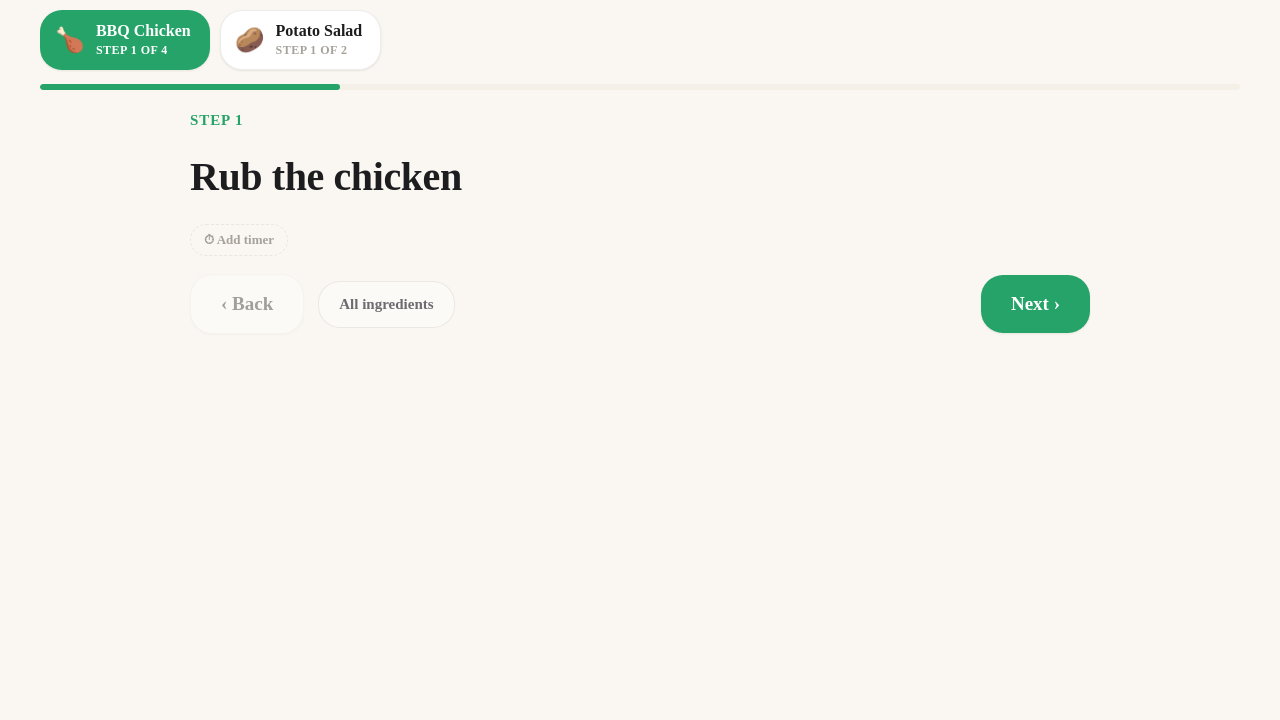
Test: CookMode — a docked timer takes you back to its dish › jumps to the right dish AND step from the alarm, and clears the alarm
Check: the text "Rub the chicken" is shown, box [190, 151, 462, 202]
Step 1. Click the button "Next ›" → (1035, 304), box [981, 275, 1090, 333]
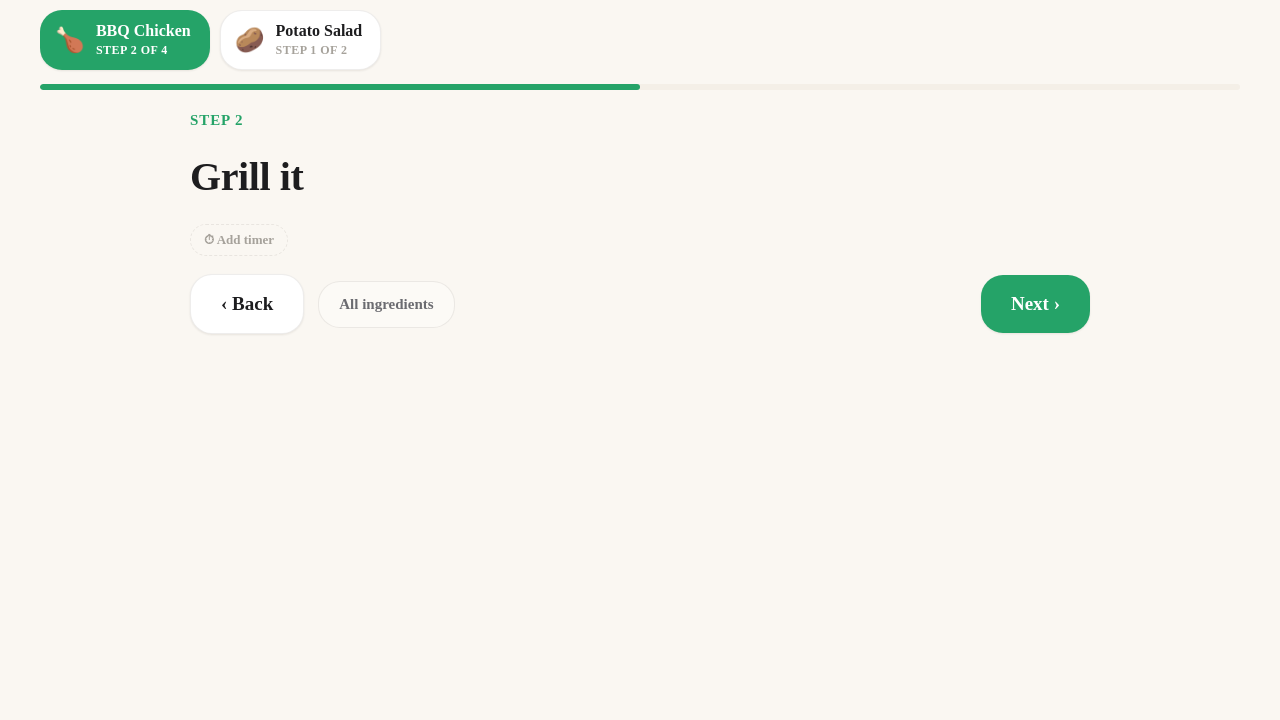
Check: the text "Grill it" is shown, box [190, 151, 304, 202]
Step 2. Click the button "⏱ Add timer" → (239, 240), box [190, 224, 288, 256]
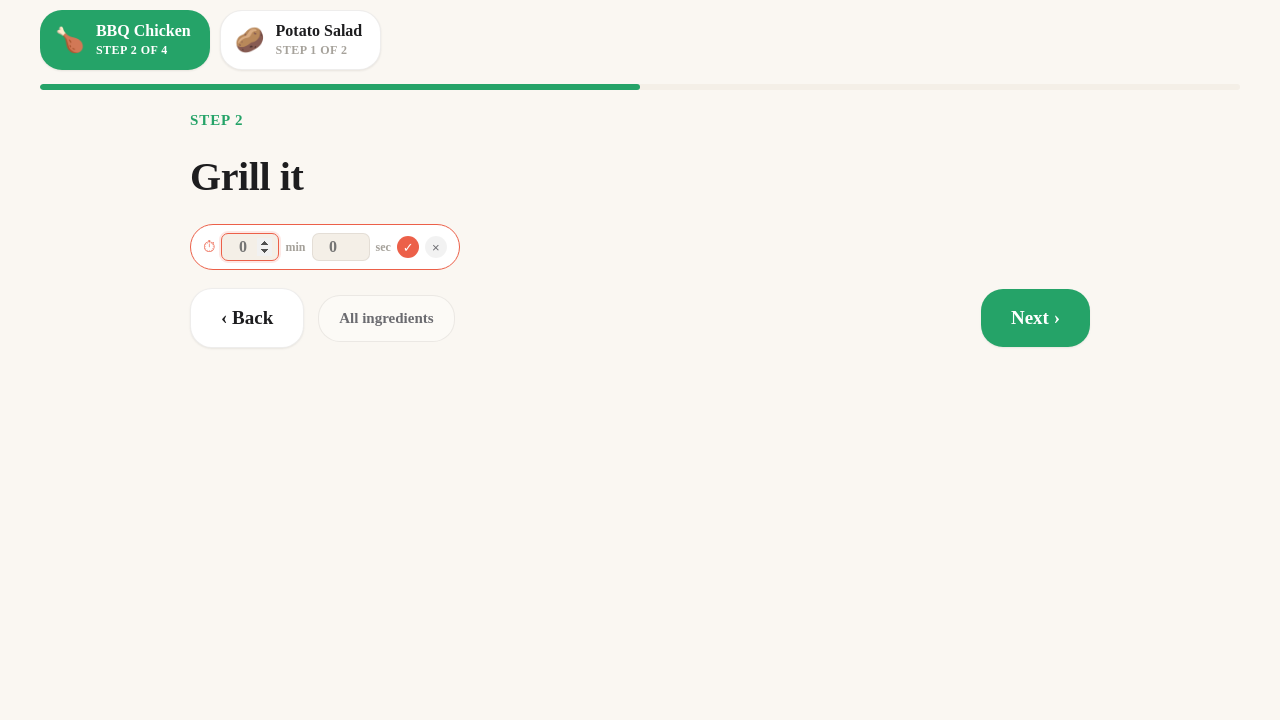
Step 3. Type "1" into the number field named "minutes" → (250, 247), box [222, 233, 280, 261]
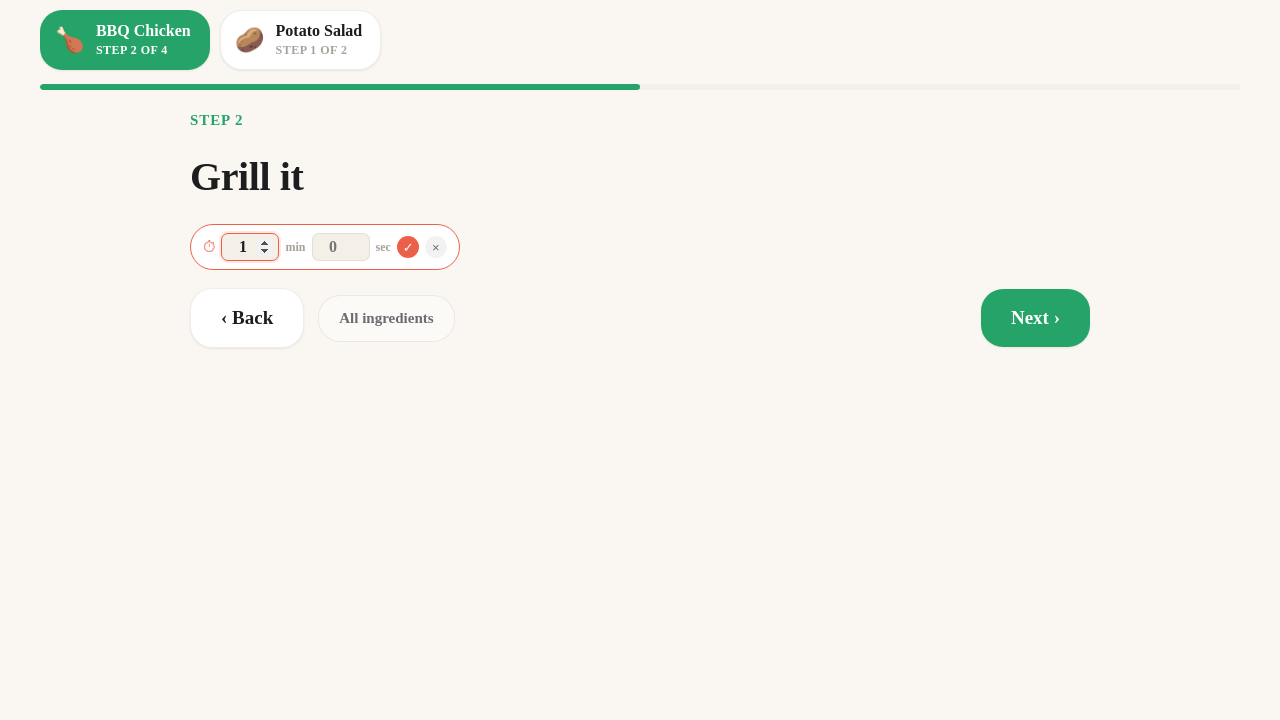
Step 4. Click the button named "start timer" → (408, 247), box [397, 236, 419, 258]
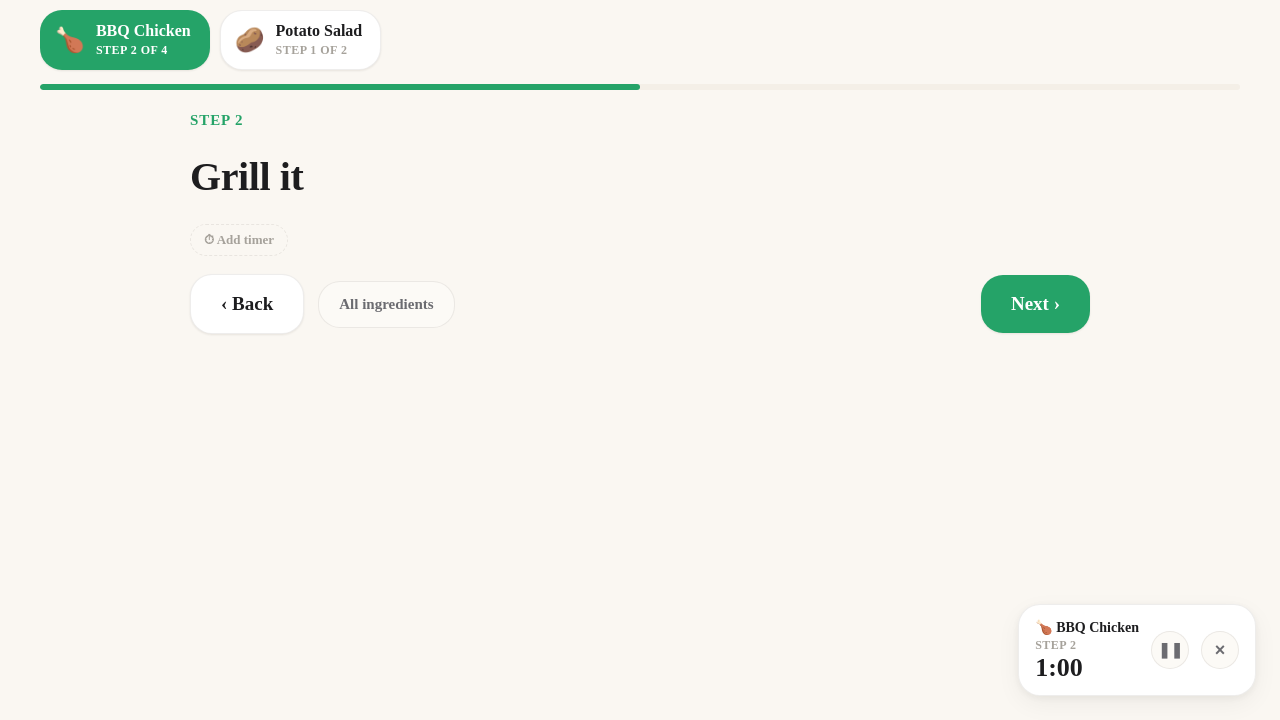
Step 5. Click the tab "🥔 Potato Salad Step 1 of 2" → (300, 40), box [220, 10, 381, 70]
Wait 60000 ms
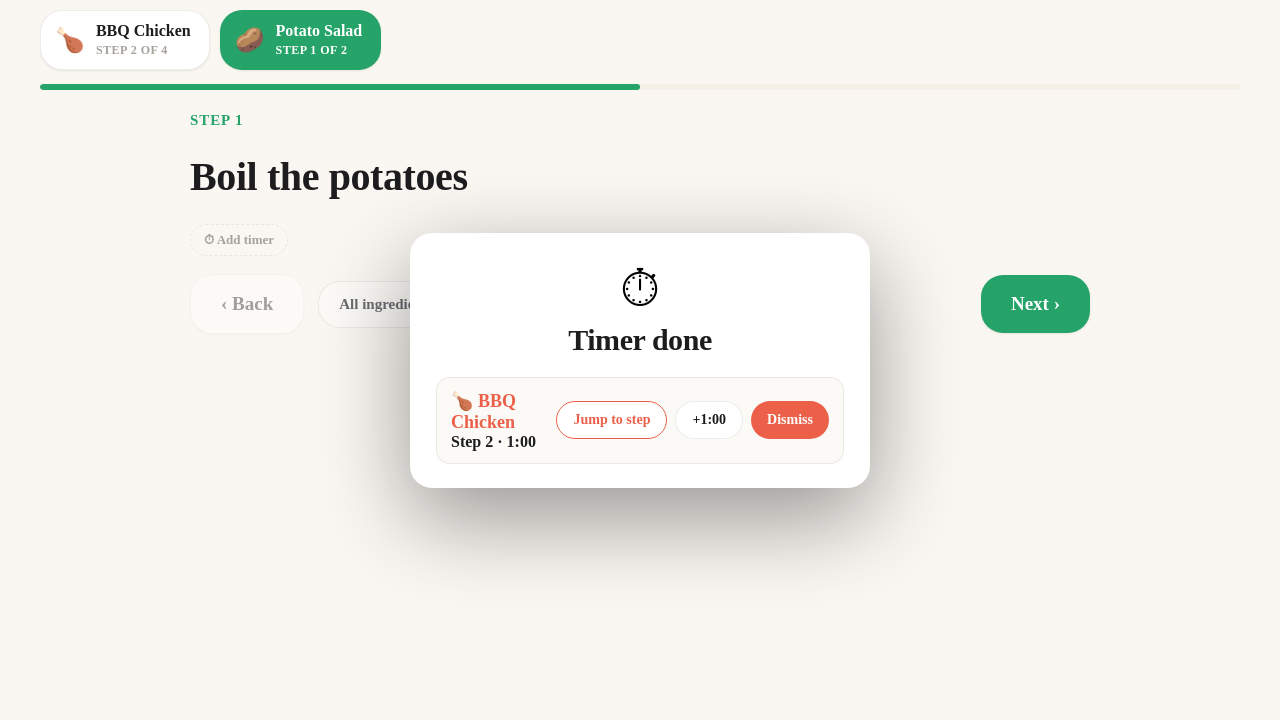
Step 6. Click the button "Jump to step" → (612, 420), box [556, 401, 667, 439]
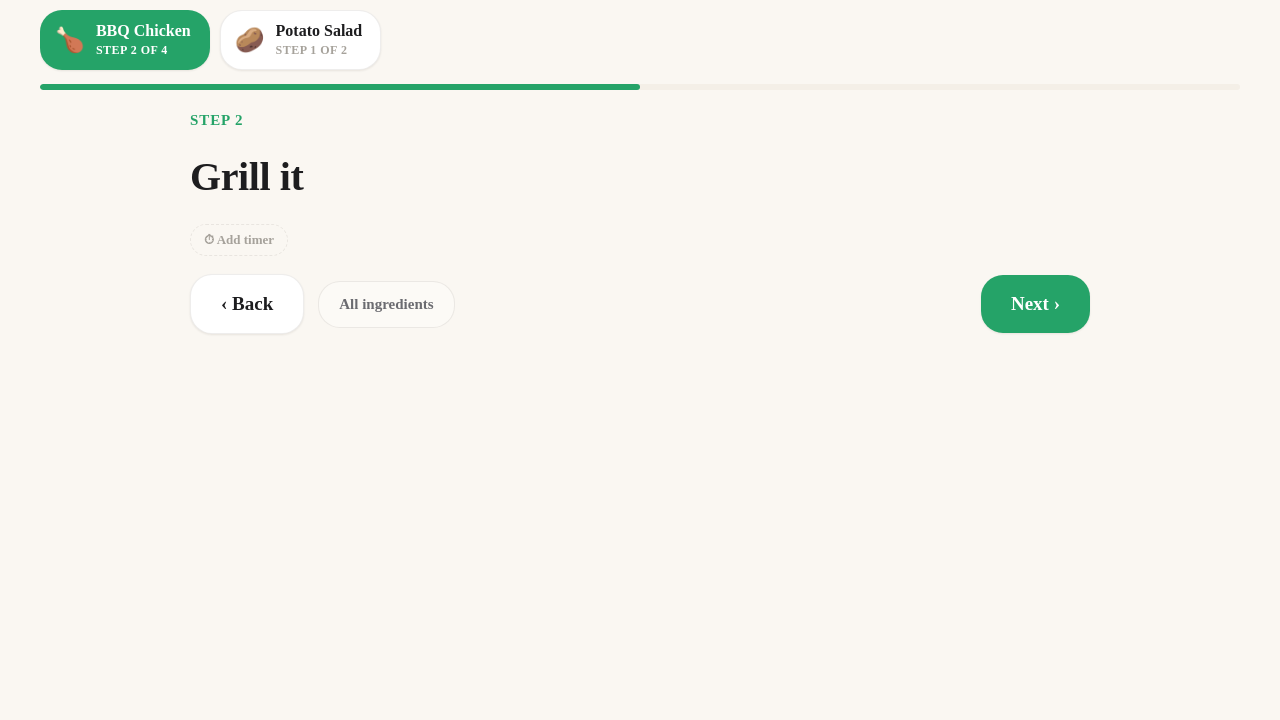
Check: the message "🍗 BBQ Chicken Step 2 1:00 ❚❚ ×" is not shown
Check: the dialog is gone
Check: the text "Grill it" is shown, box [190, 151, 304, 202]
